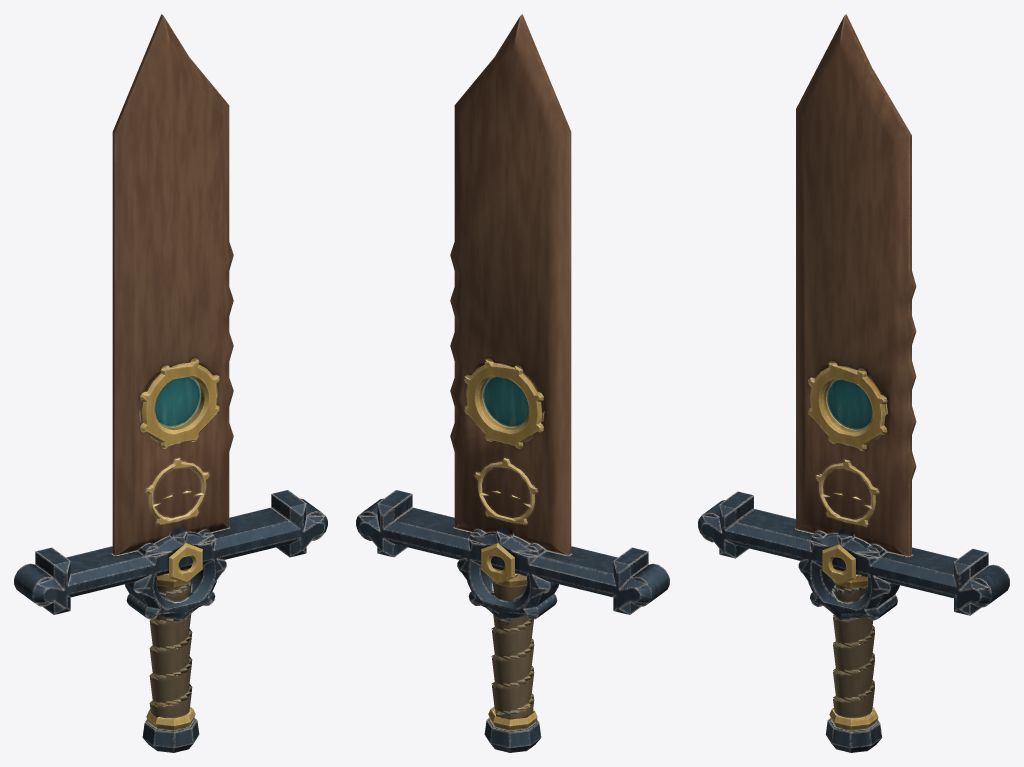
The model's file is Bulkhead Blade.fbx.
3 views of the same model, side by side, from view 1: azimuth 30°, elevation 25°; view 2: azimuth 150°, elevation 25°; view 3: azimuth 330°, elevation 25° (orthographic).
Parts seen in each view (by area): view 1: Bulkhead Blade_Body; view 2: Bulkhead Blade_Body; view 3: Bulkhead Blade_Body.
Part boxes in pixels (x1,y1,x2,y2): Bulkhead Blade_Body: (14, 14, 327, 752); Bulkhead Blade_Body: (356, 14, 669, 752); Bulkhead Blade_Body: (698, 14, 1009, 752).
Bounding box in the file's own units: 1.67 × 3.95 × 0.32.
